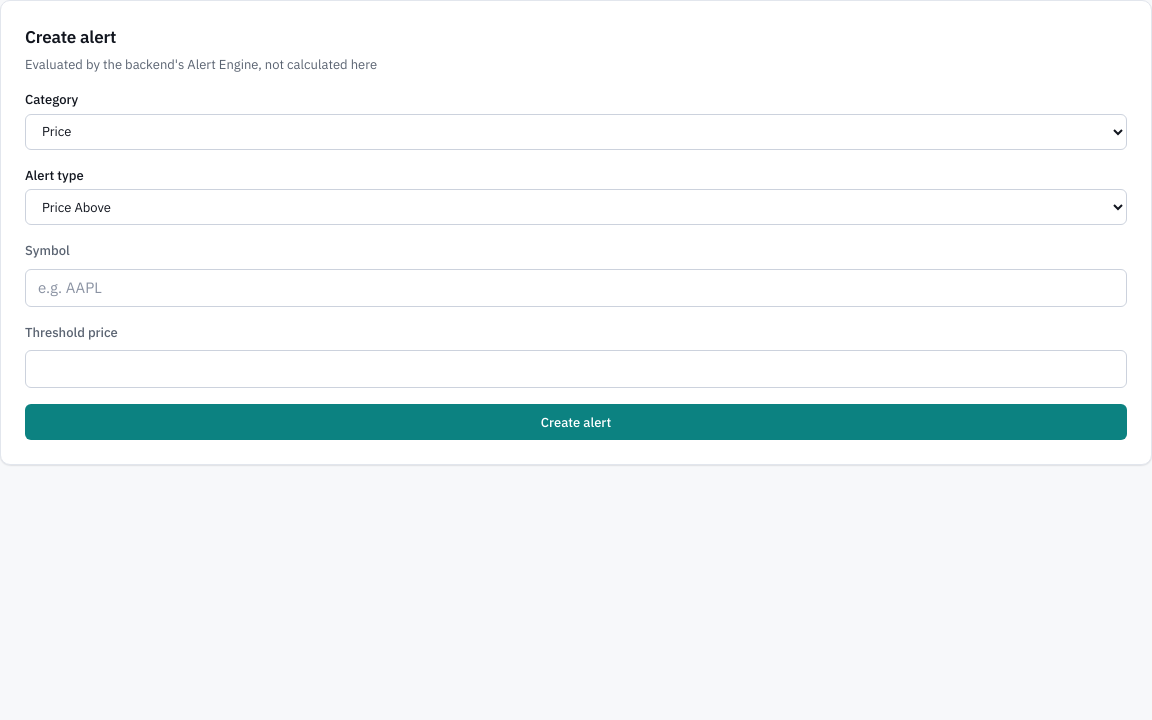
CreateAlertForm › shows the real backend error on a failed creation
In the field labelled "Symbol": (576, 288) [25,268,1127,306], type "AAPL"
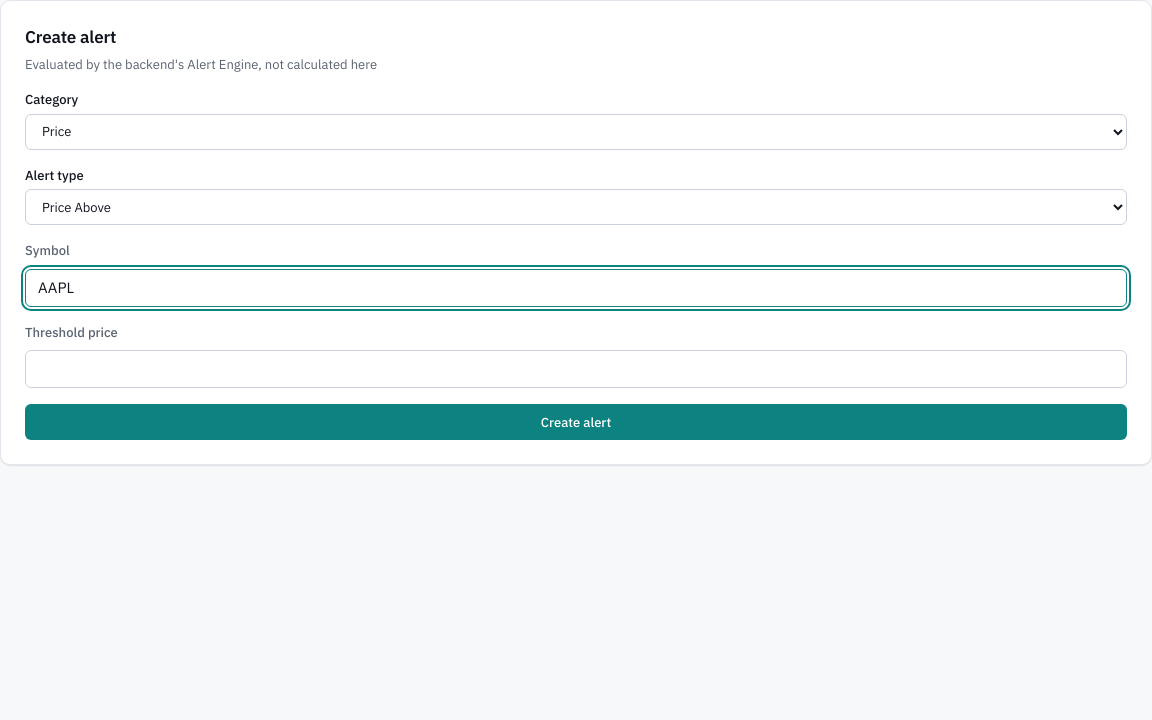
In the field labelled "Threshold price": (576, 369) [25,350,1127,388], type "200"
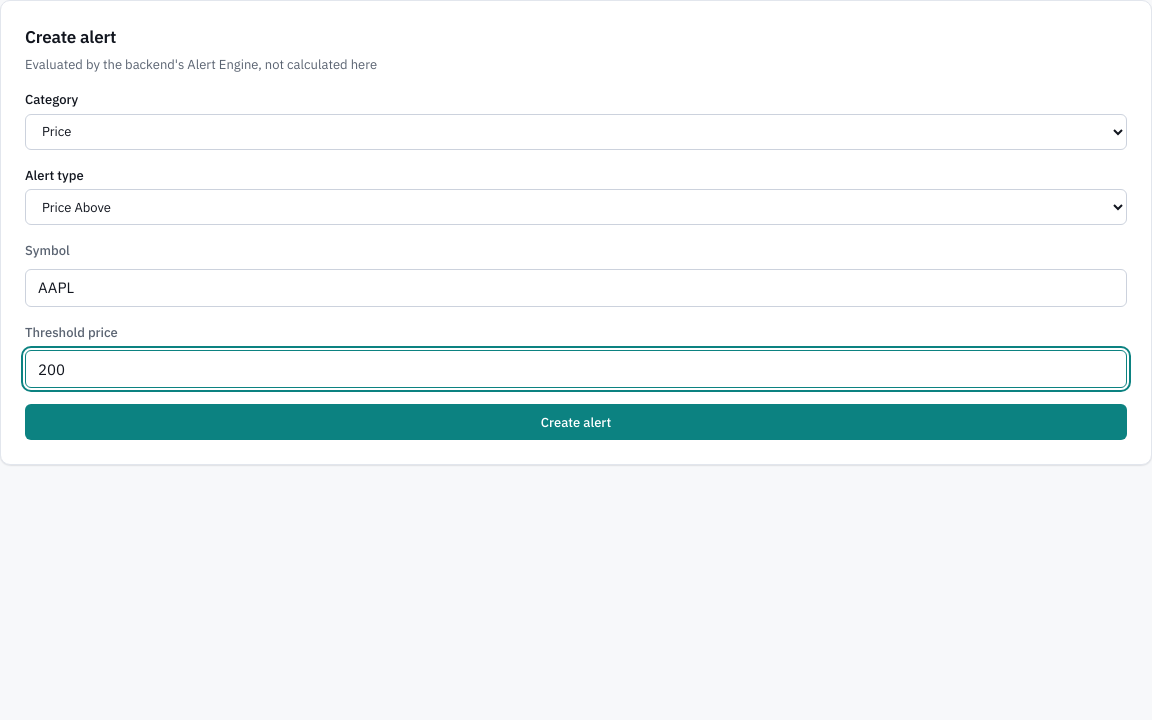
Click the button "Create alert": click(576, 422) [25,404,1127,440]
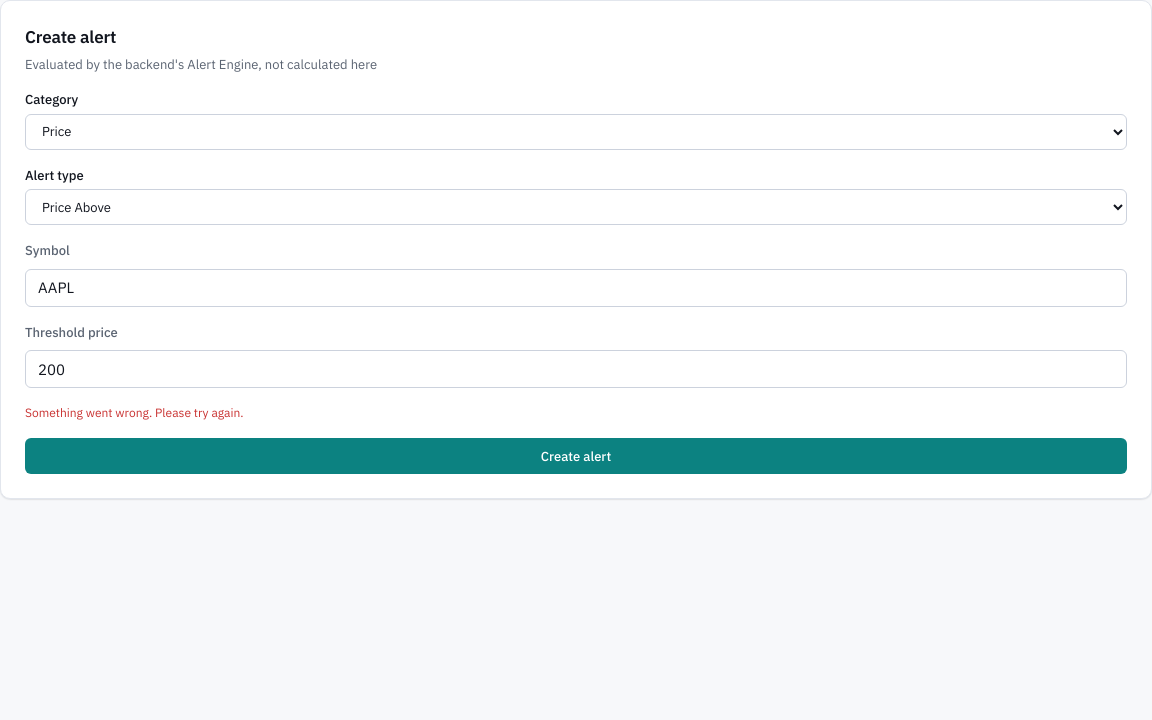
expect the text "Something went wrong. Please try again." is shown: met, box [25,405,244,420]
